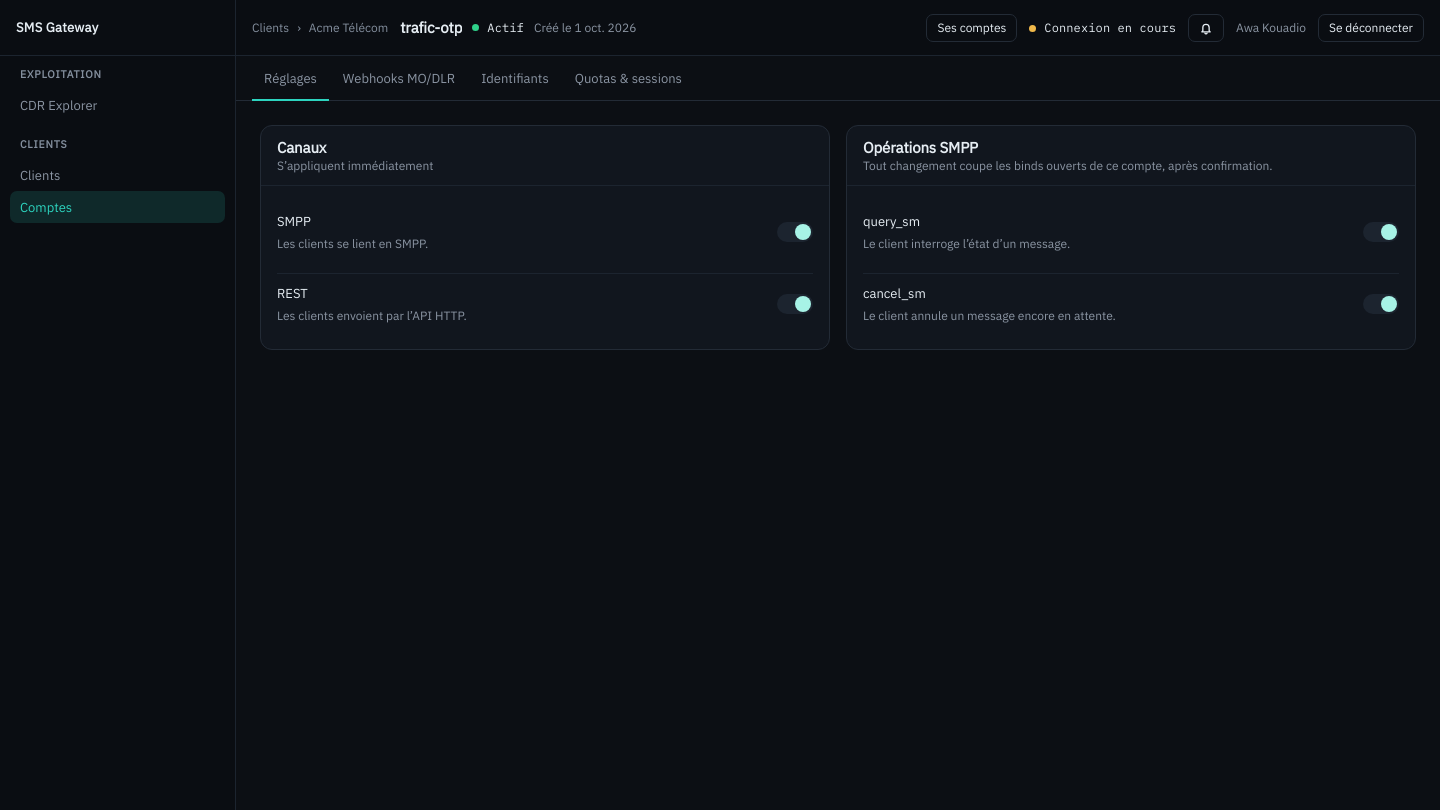
Test: the credentials of an SMPP account › creates the API key after a confirmation, and shows it once
What coordinates should you click on to do the following:
click the tab "Identifiants"
I would click on:
 (515, 78)
Its box is x1=469 y1=56 x2=561 y2=100.
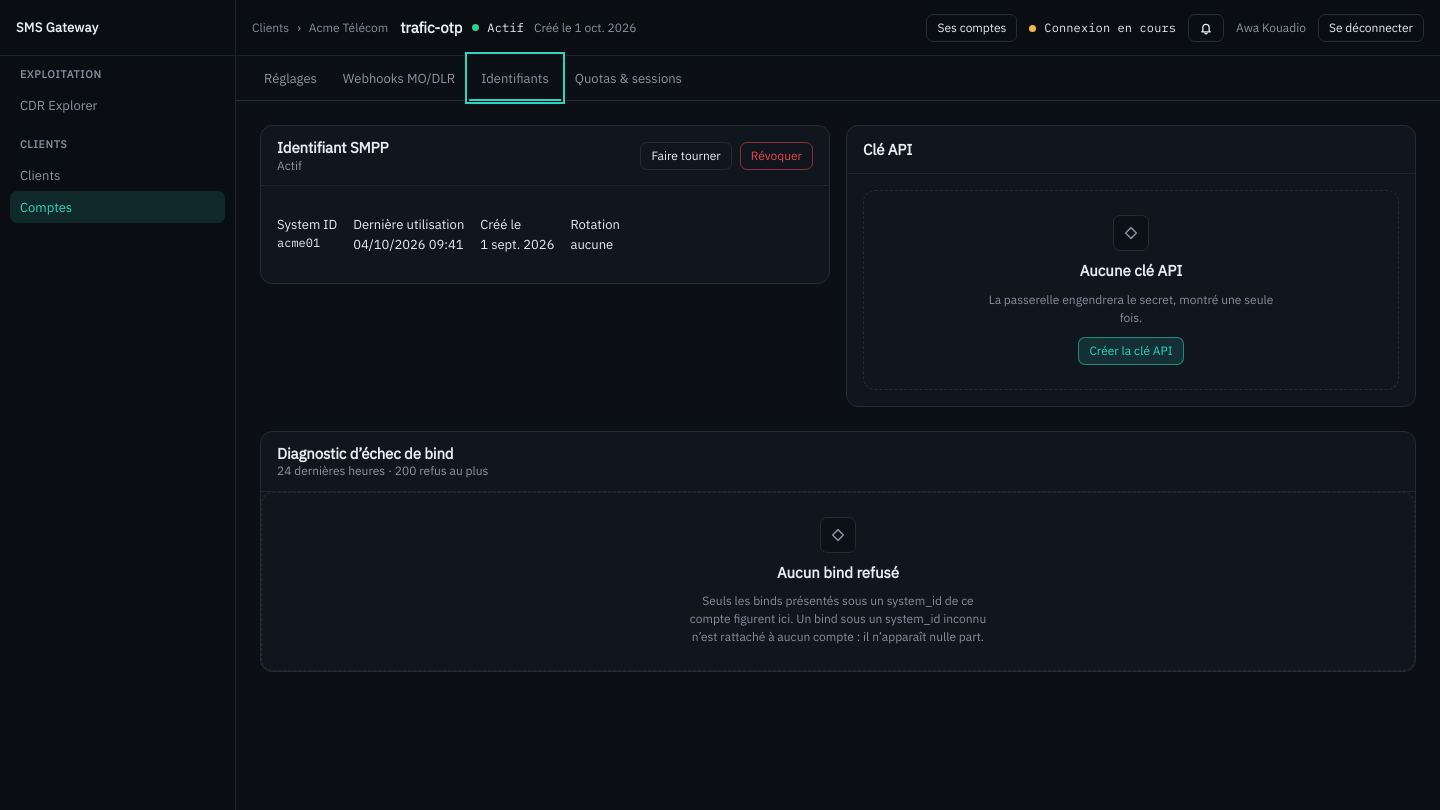
What coordinates should you click on to do the following:
click the button "Créer la clé API"
I would click on:
 (1131, 350)
Its box is x1=1078 y1=336 x2=1184 y2=364.
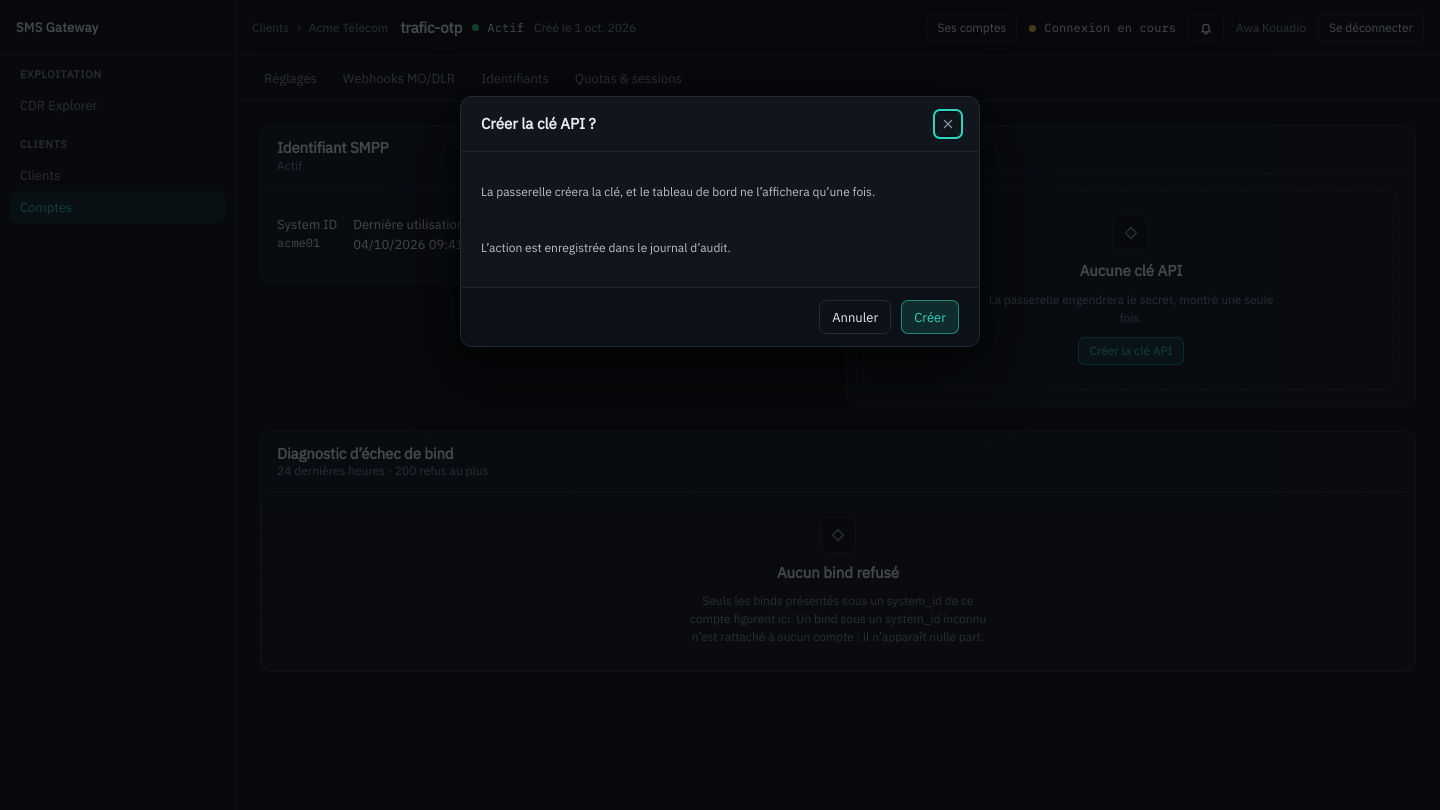
What coordinates should you click on to do the following:
click the button "Créer"
I would click on:
 (930, 317)
Its box is x1=901 y1=300 x2=959 y2=334.
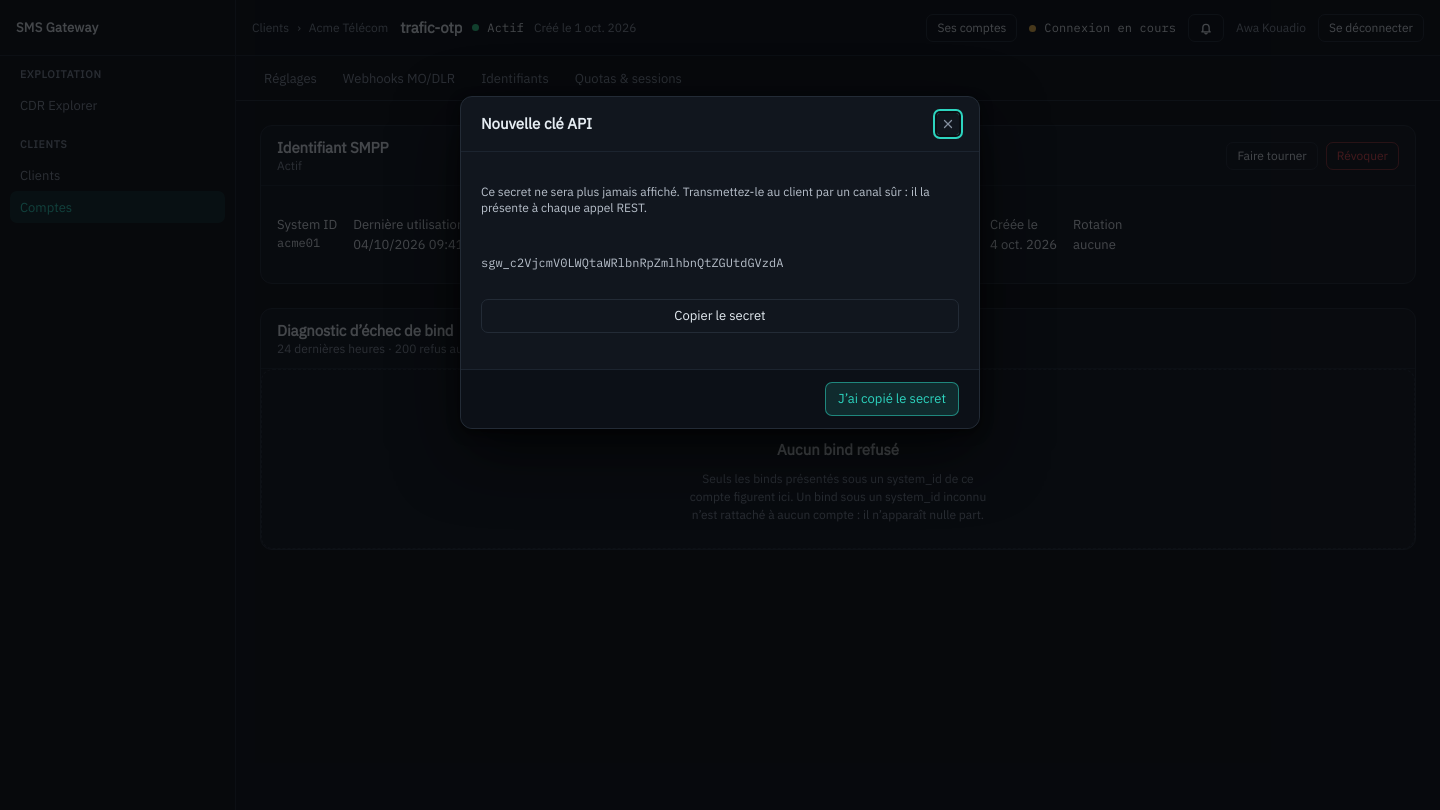
Expected: the dialog "Nouvelle clé API" shows "sgw_c2VjcmV0LWQtaWRlbnRpZmlhbnQtZGUtdGVzdA", x1=481 y1=255 x2=783 y2=270
